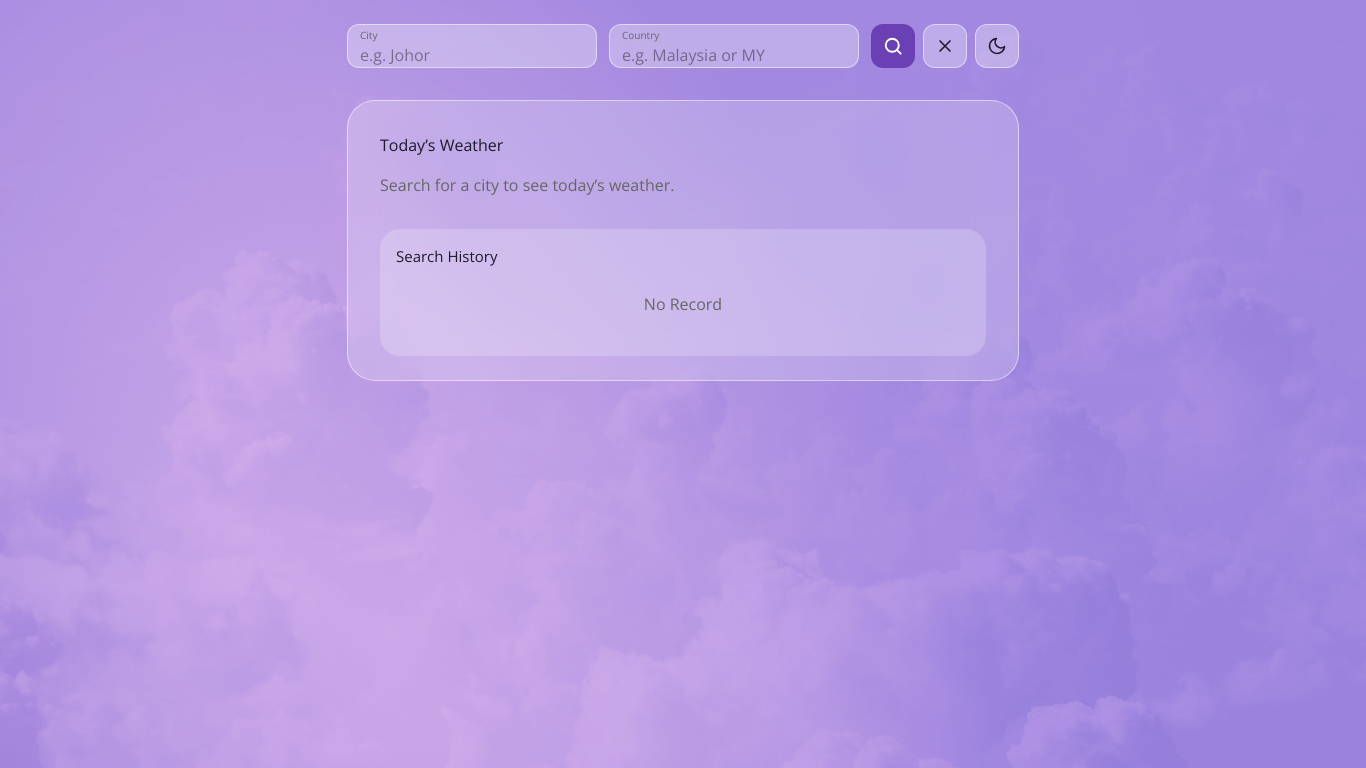
Test: App › Clear empties the inputs and dismisses the error
Clear the field labelled "City": x=472, y=53 [360,40,584,67]
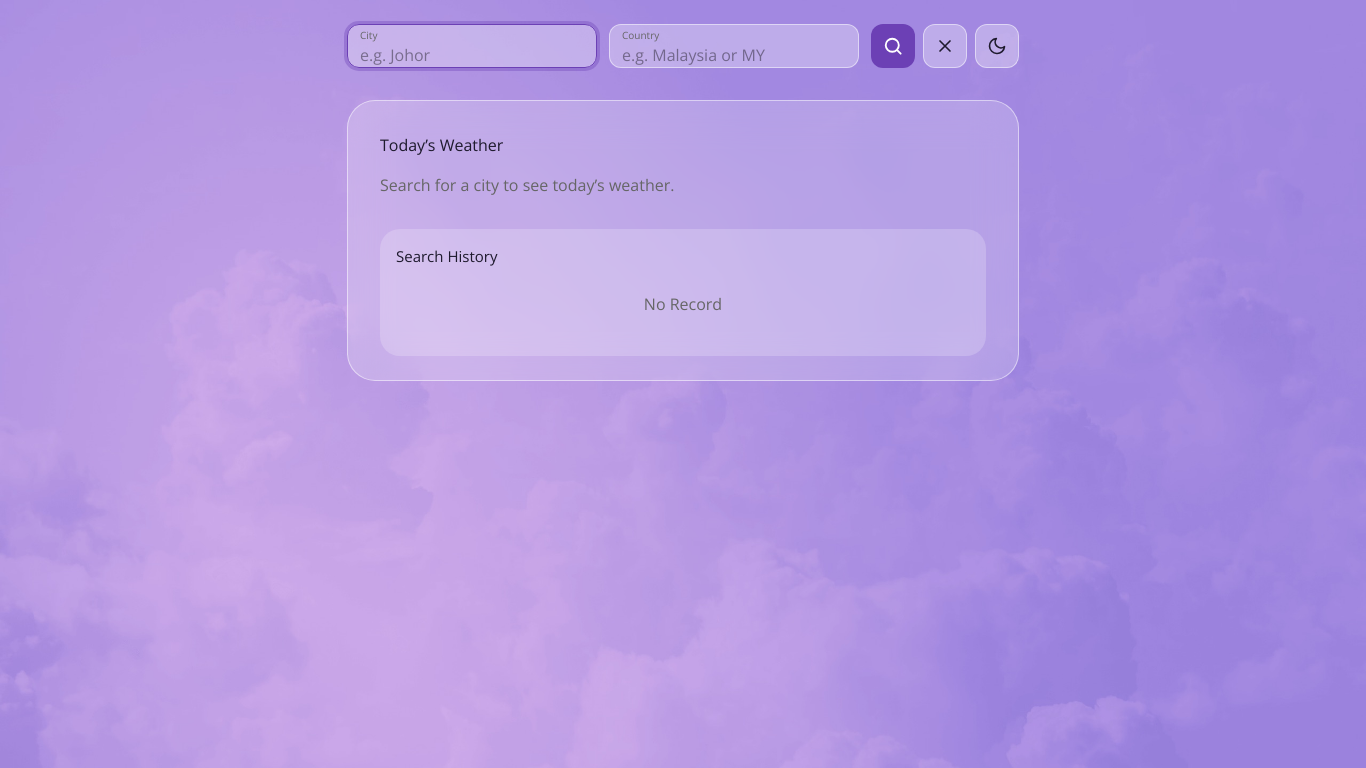
Clear the field labelled "Country": x=734, y=53 [622,40,846,67]
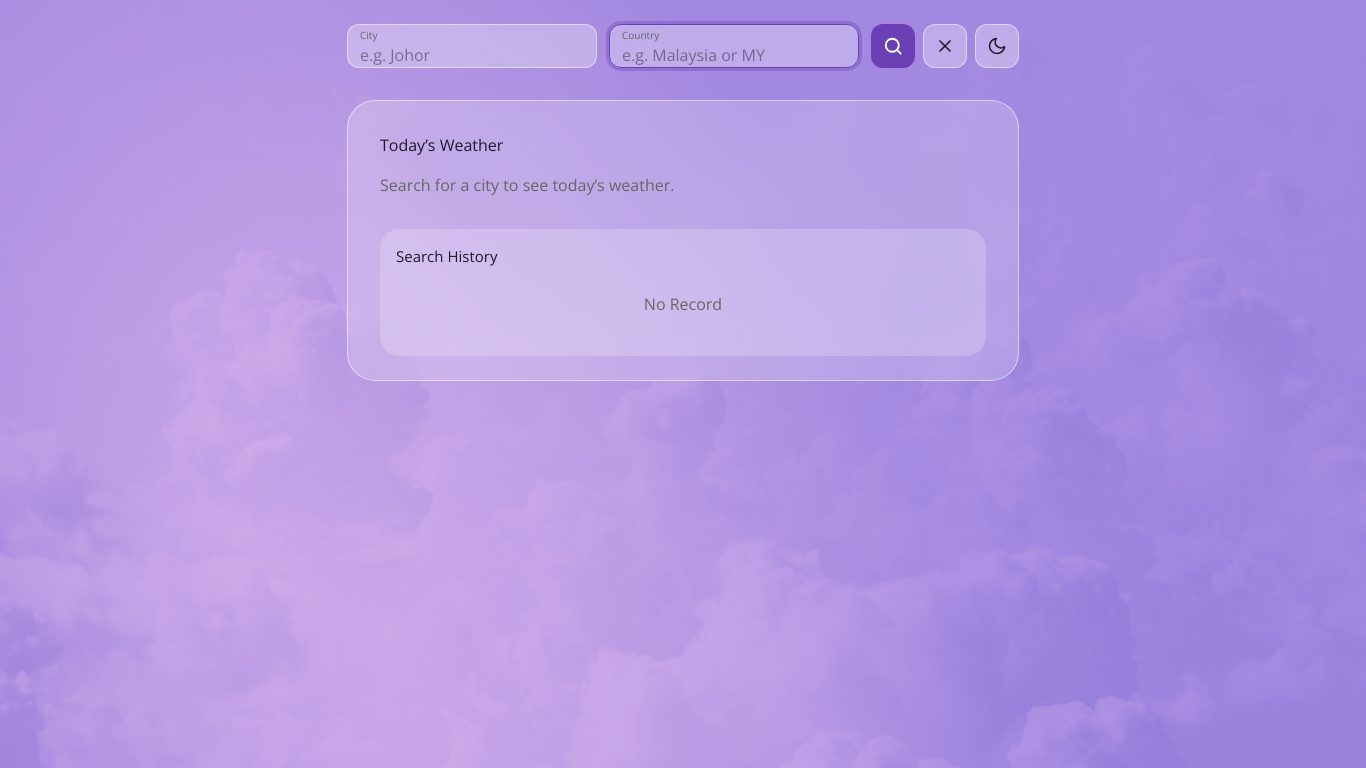
In the field labelled "City": x=472, y=53 [360,40,584,67], type "Johor"
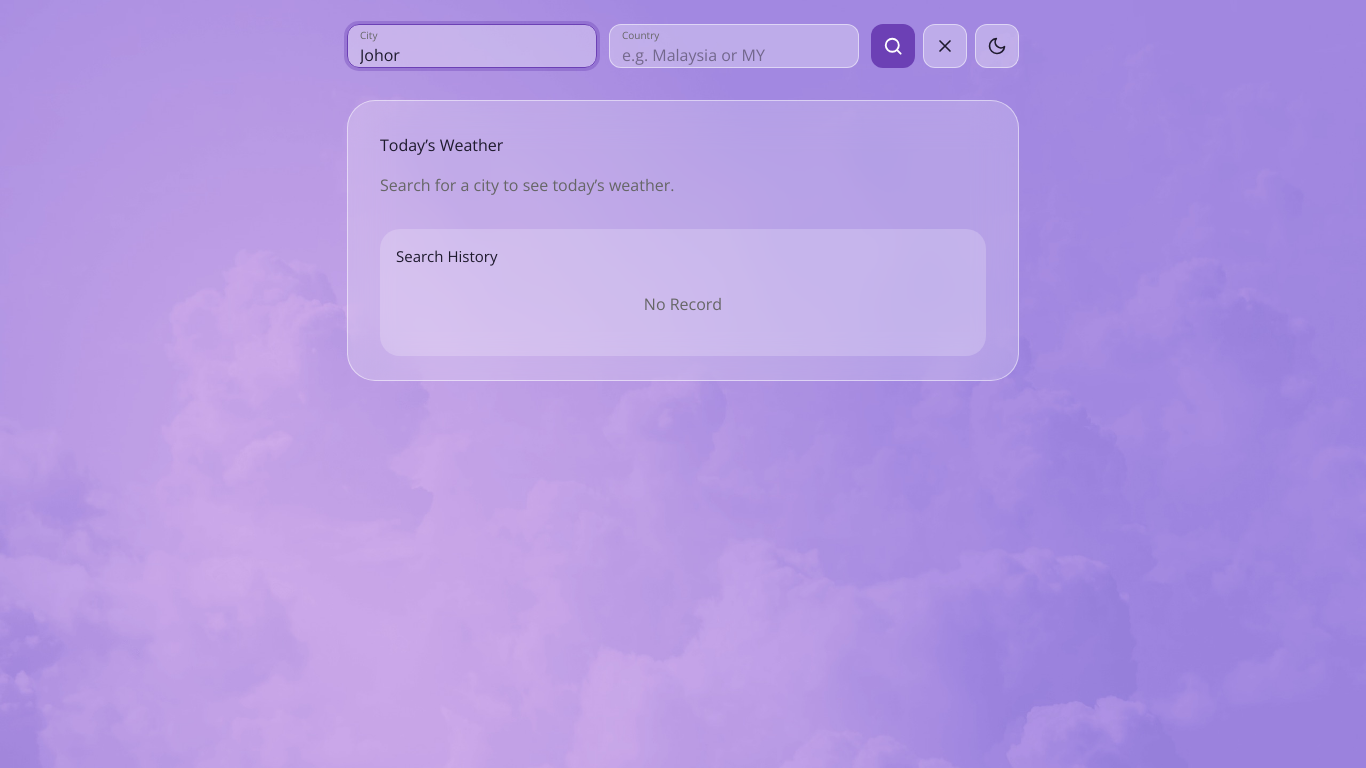
In the field labelled "Country": x=734, y=53 [622,40,846,67], type "Atlantis"
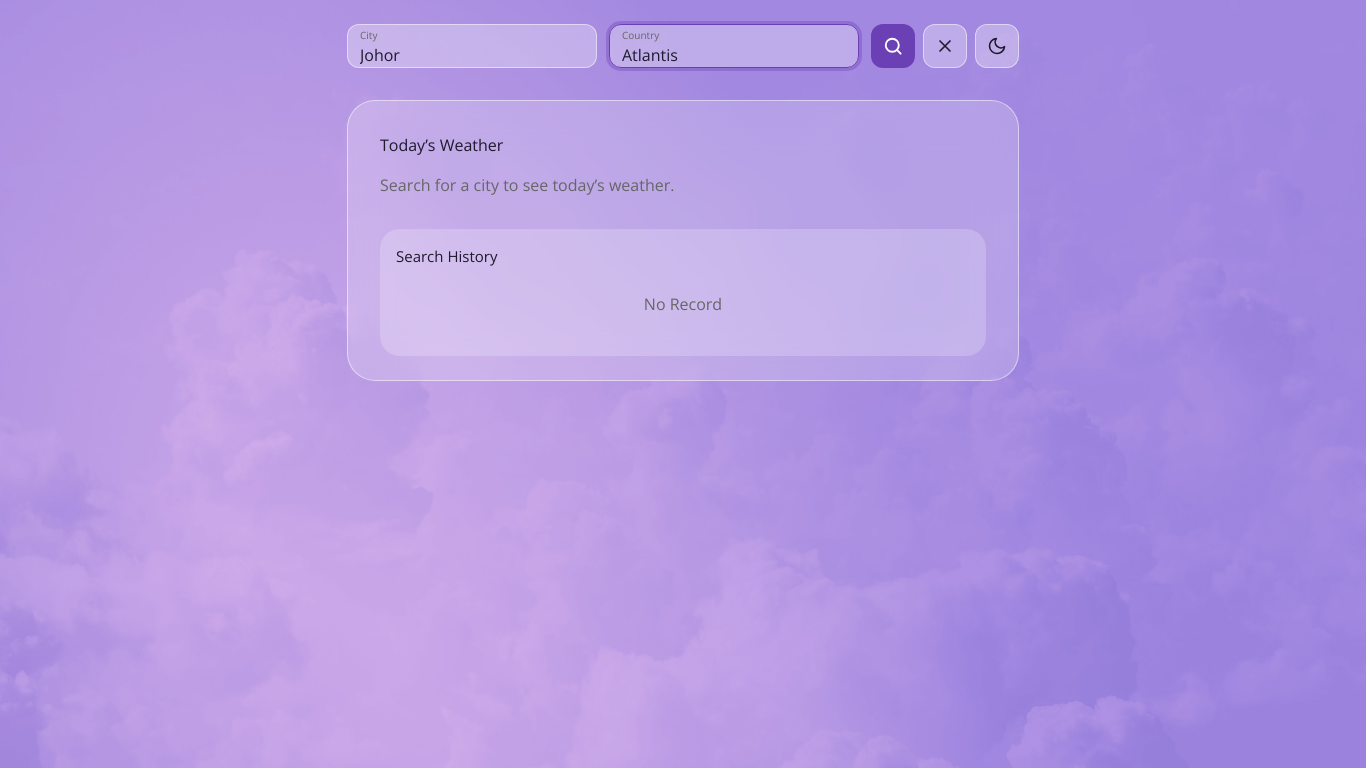
Click the button named "Search": x=893, y=46 [871,24,915,68]
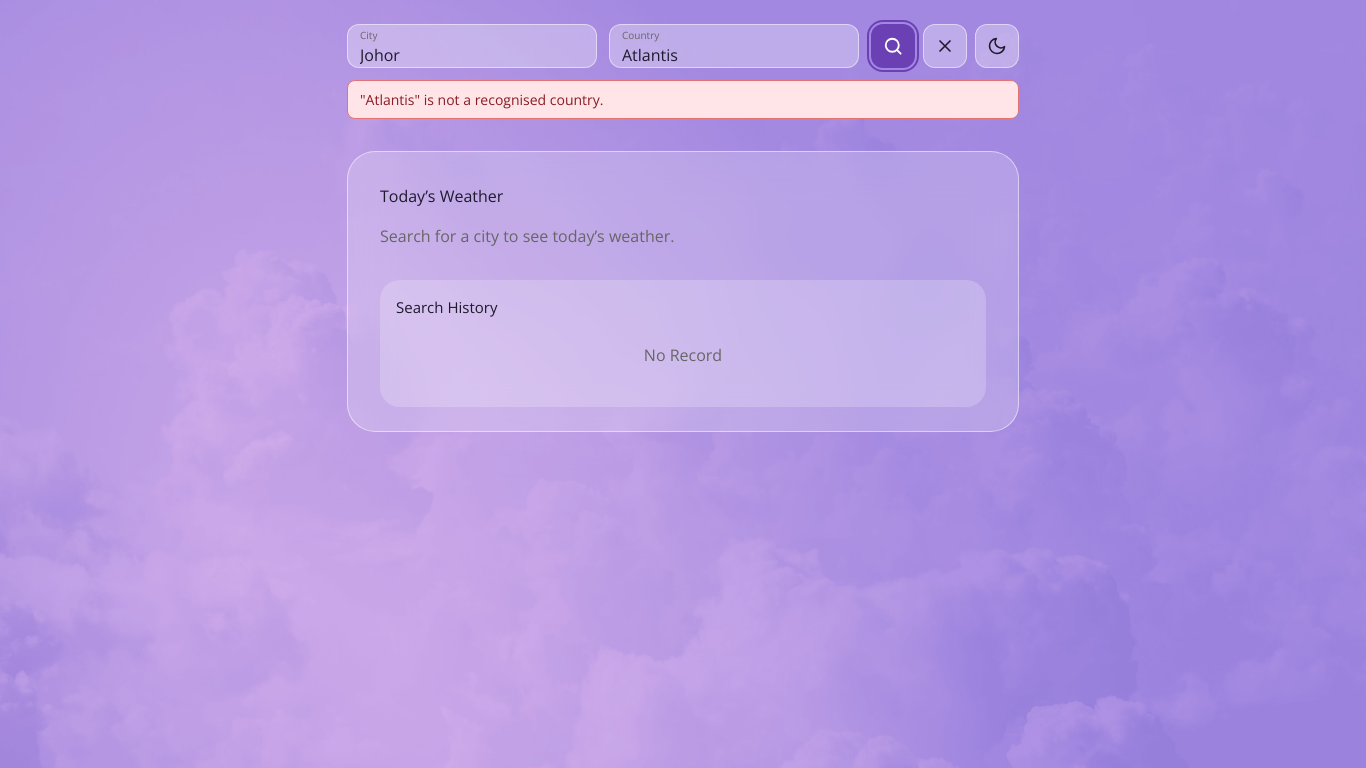
Click the button named "Clear": x=945, y=46 [923,24,967,68]
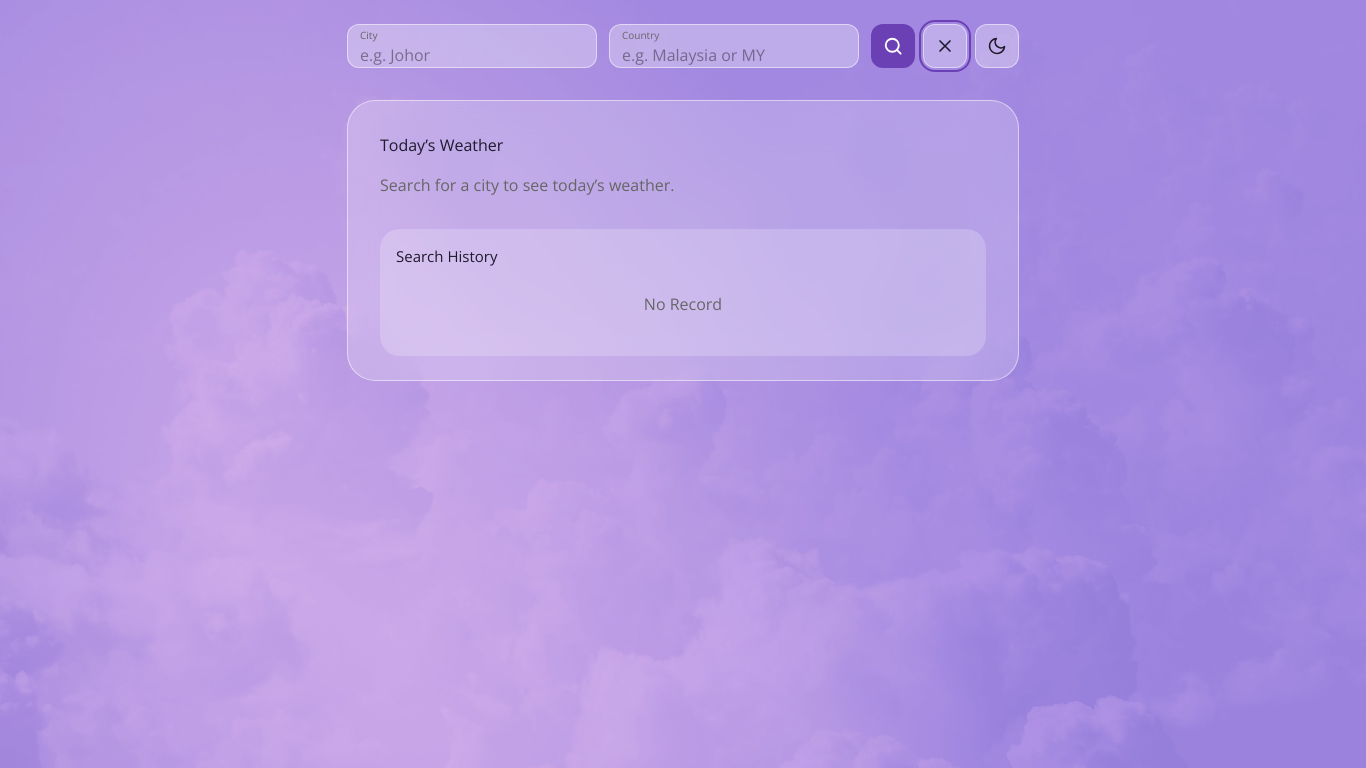
Now the message "\"Atlantis\" is not a recognised country." is gone
